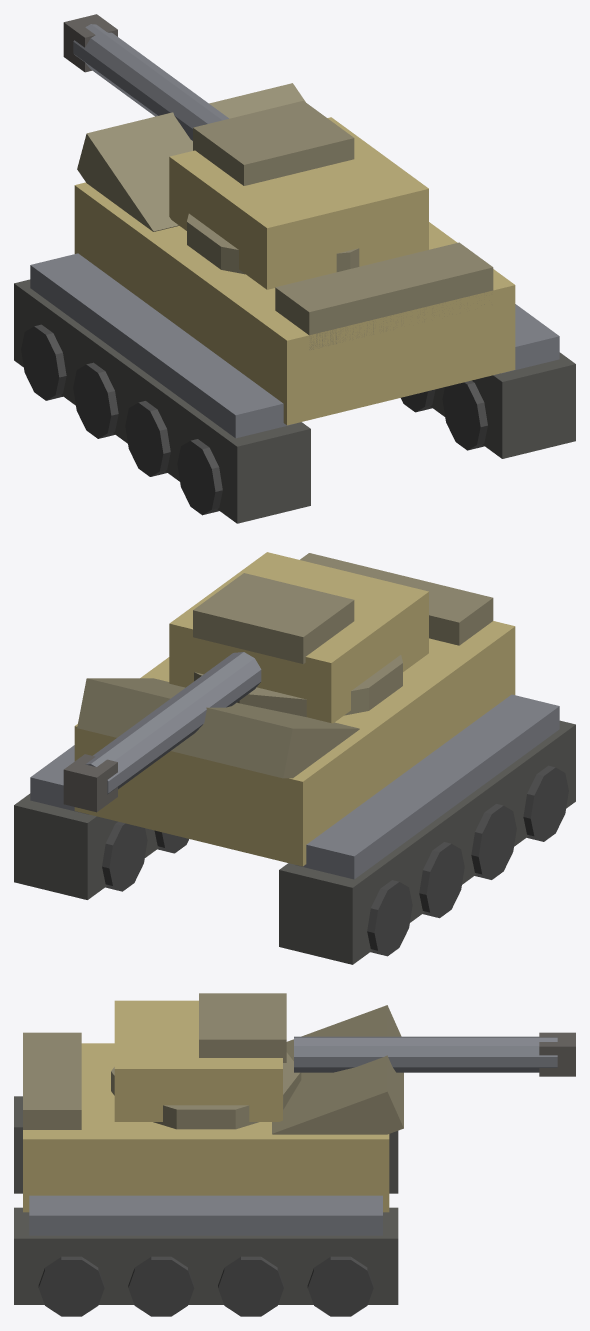
The model's file is dm_mbt_walker.glb.
3 renders of one model, top to bottom at view 1: azimuth 30°, elevation 25°; view 2: azimuth 150°, elevation 25°; view 3: azimuth 270°, elevation 25°, orthographic. The views are drawn at different scales.
Visible parts, largest first — view 1: hull, turret; view 2: hull, turret; view 3: hull, turret.
Part boxes in pixels (box(x1,y1,x2,y2)): hull: box(14, 83, 575, 523); turret: box(63, 14, 428, 289); hull: box(14, 553, 575, 964); turret: box(63, 552, 428, 812); hull: box(14, 1005, 403, 1316); turret: box(111, 993, 575, 1129).
Bounding box in the file's own units: 0.96 × 0.6806 × 1.54.
